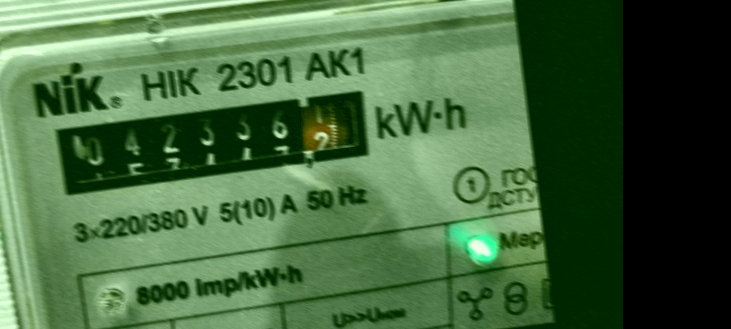0: (81, 133, 104, 168)
1: (309, 99, 324, 126)
2: (156, 119, 181, 156), (310, 130, 329, 152)
3: (193, 114, 215, 148), (232, 109, 252, 143)
4: (121, 124, 141, 158)
6: (267, 106, 291, 143)
screen: (41, 75, 385, 208)
